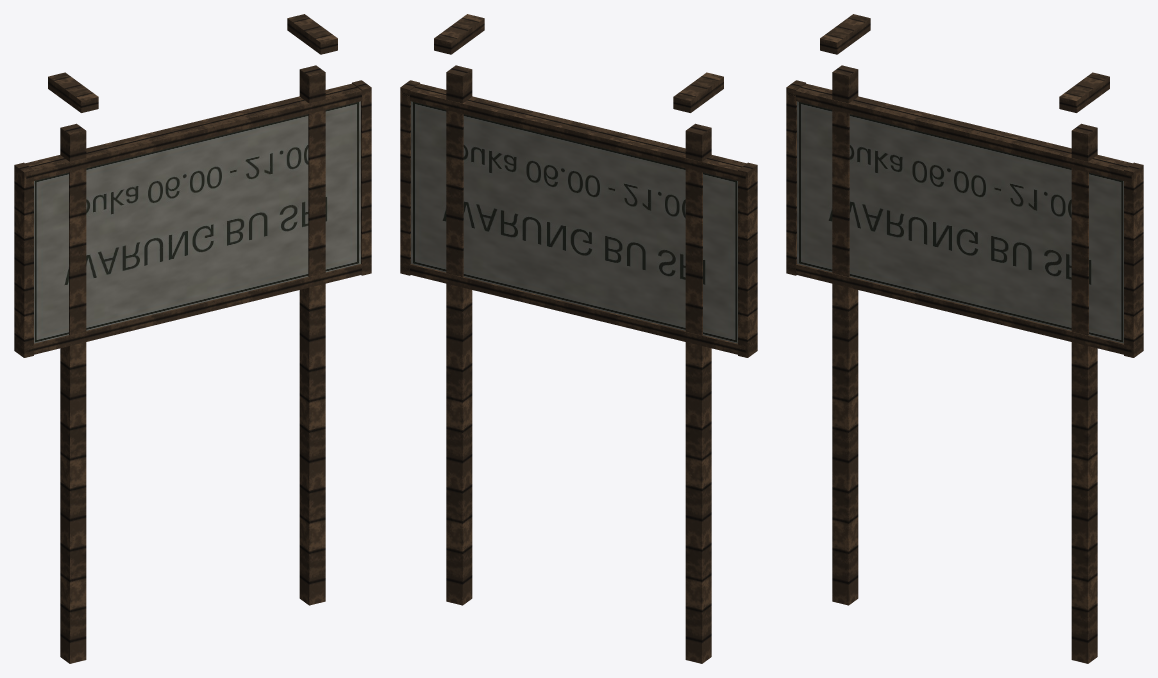
The model's file is prop.signboard.glb.
3 views of the same model, side by side, from view 1: azimuth 30°, elevation 25°; view 2: azimuth 150°, elevation 25°; view 3: azimuth 330°, elevation 25° (orthographic).
Parts seen in each view (by area): view 1: prop.signboard; view 2: prop.signboard; view 3: prop.signboard.
Part boxes in pixels (left/top/right/bottom): prop.signboard: left=14, top=14, right=371, bottom=663; prop.signboard: left=400, top=14, right=757, bottom=663; prop.signboard: left=786, top=14, right=1143, bottom=663.
Bounding box in the file's own units: 1.8 × 2.83 × 0.3.
Materials: 2 (2 with a texture image).
